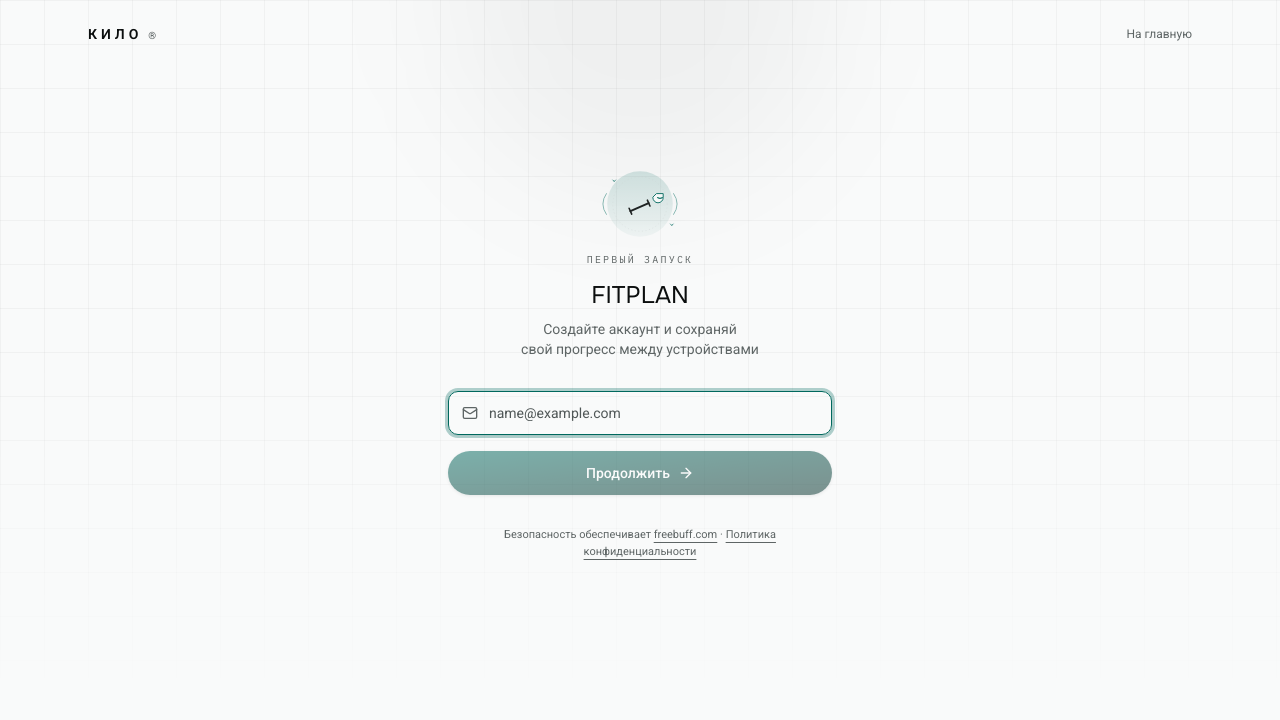
Scenario: Auth — Email + Password › 'Забыли пароль?' goes to reset step
Type "test@example.com" into the field with placeholder "name@example.com" at (640, 413), box [448, 391, 832, 435]
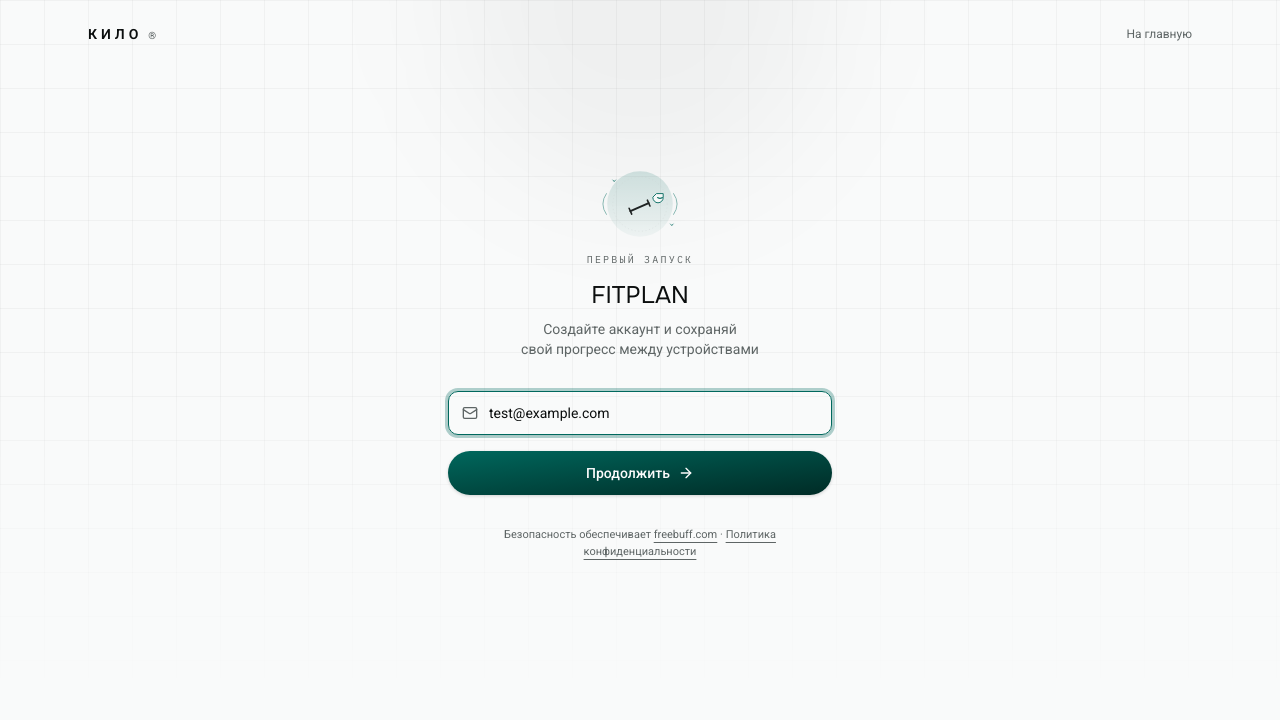
Click the button "Продолжить" at (640, 473), box [448, 451, 832, 495]
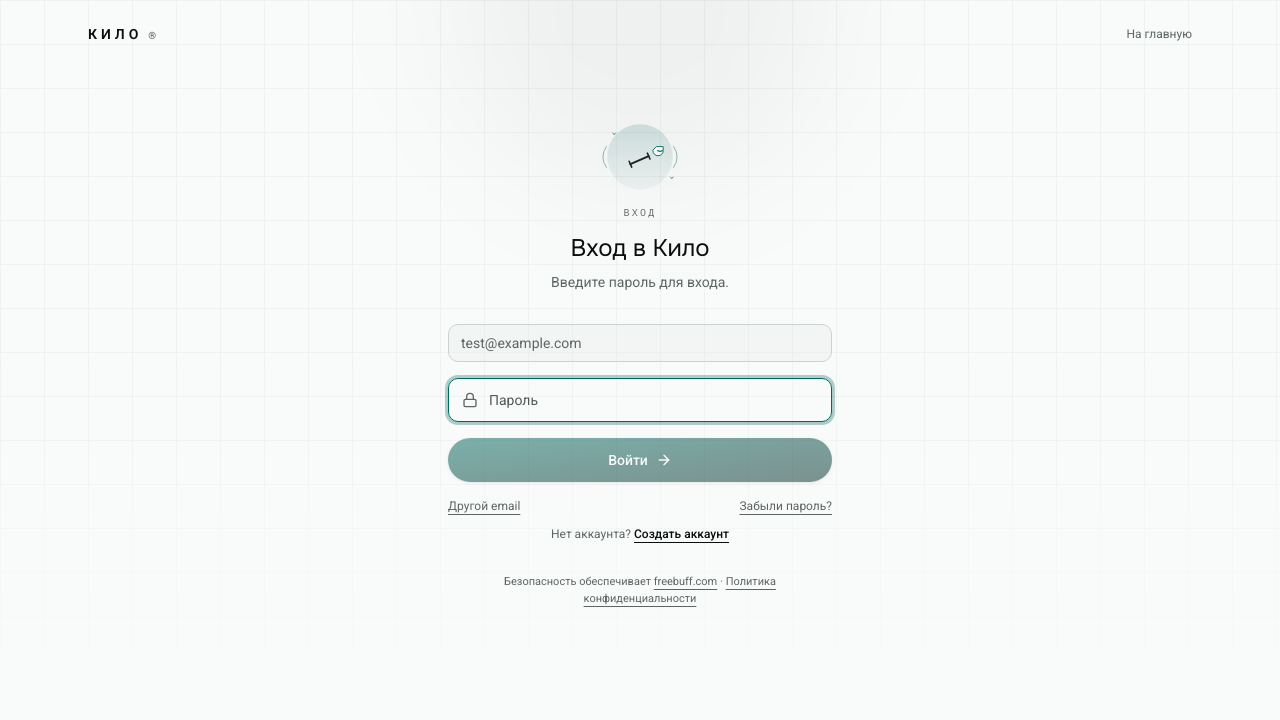
Expected: the button "Забыли пароль?" is shown
Click the button "Забыли пароль?" at (786, 506), box [740, 498, 832, 514]
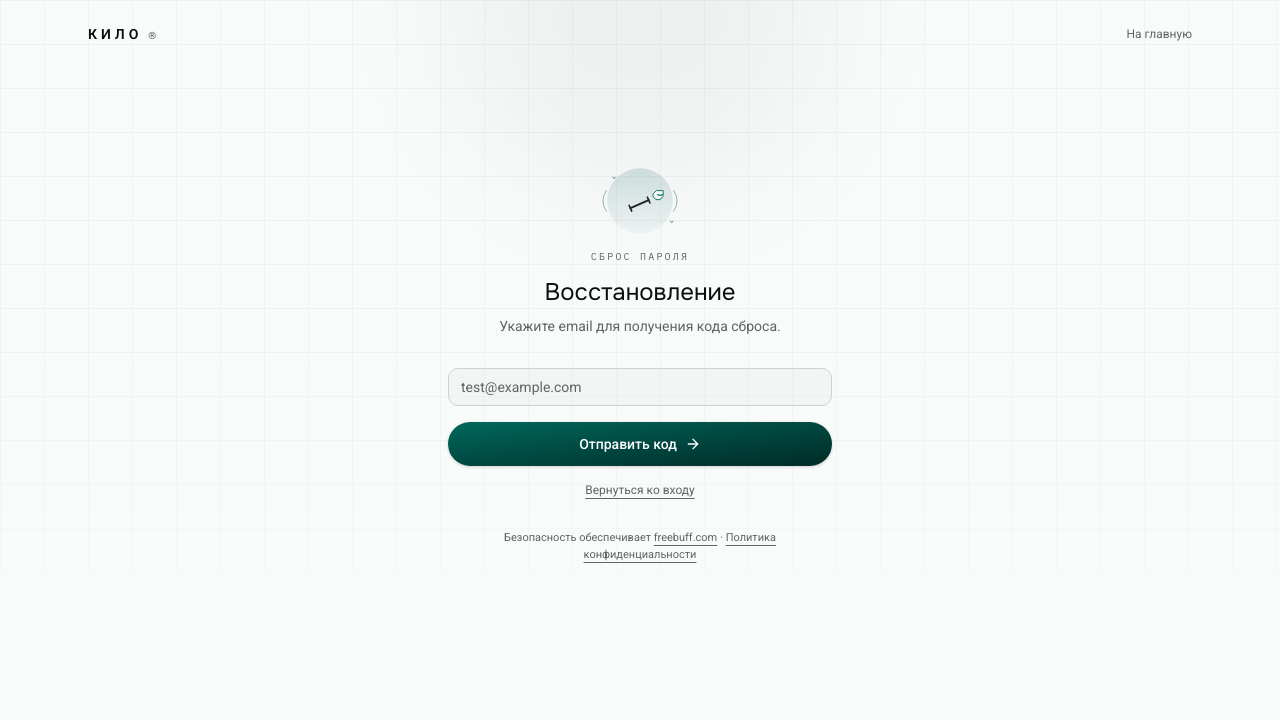
Expected: the heading "Восстановление" is shown, [544, 277, 736, 307]
Expected: the button "Отправить код" is shown, [448, 422, 832, 466]
